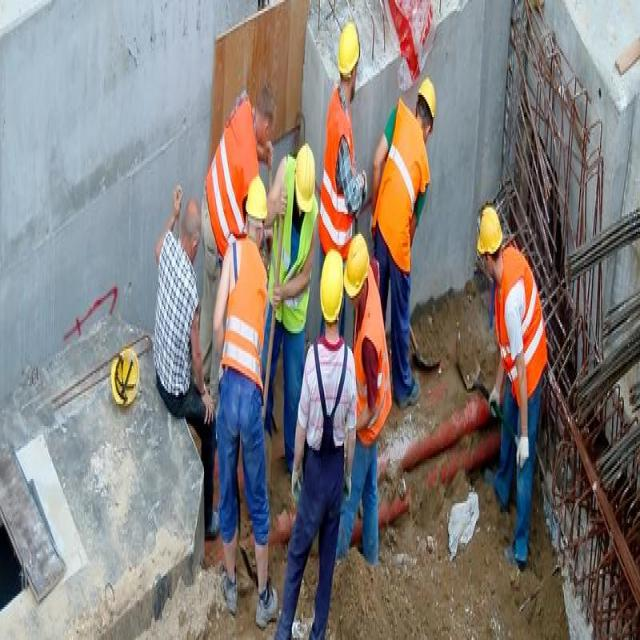Reflective-Jacket: (497, 243, 547, 402), (378, 102, 426, 267), (221, 238, 266, 393), (320, 93, 355, 245), (277, 201, 314, 333)
Safety-Helmet: (107, 330, 145, 423), (318, 245, 345, 324), (344, 230, 370, 296), (336, 15, 362, 80), (475, 199, 503, 258), (294, 139, 316, 212), (246, 172, 268, 225), (418, 70, 438, 121)
